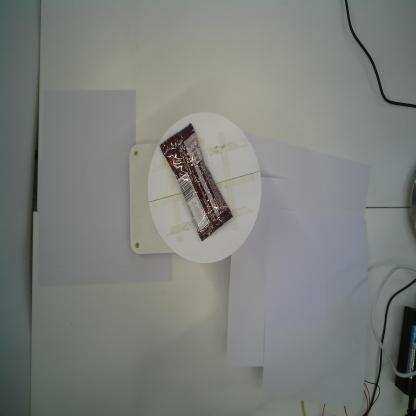Chocolate: (159, 122, 233, 242)
